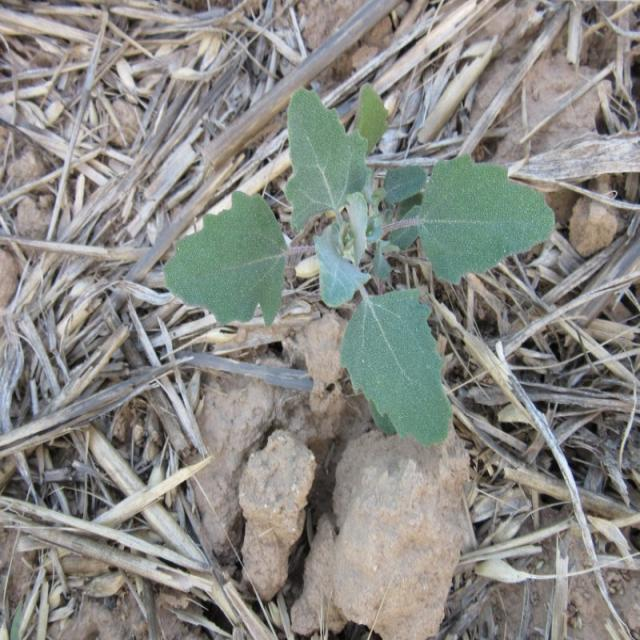ca: (169, 87, 545, 437)
